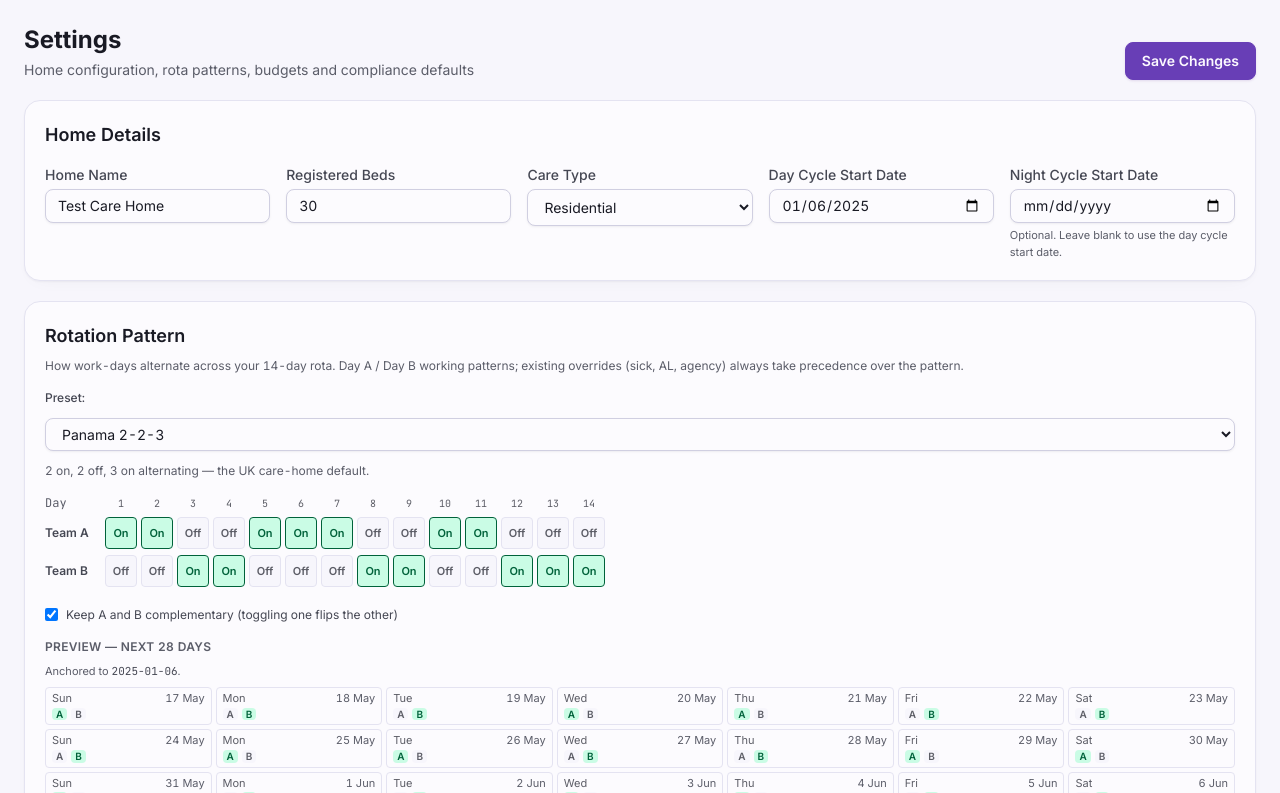
Test: Config › shows Saved! text after successful save
This screenshot has width=1280, height=793.
Check: the heading "Settings" is shown, box [24, 25, 121, 54]
Click the button "Save Changes".
click(1190, 61)  # box [1125, 42, 1256, 80]
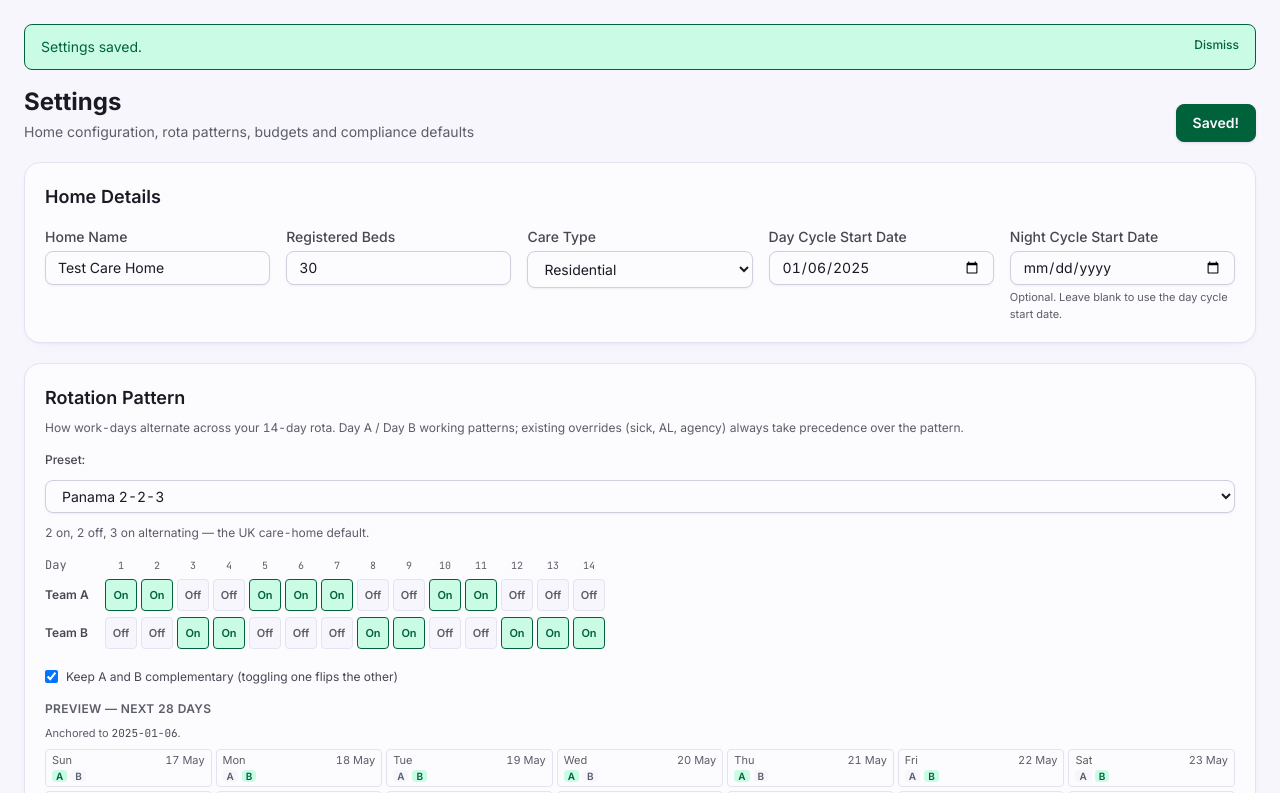
Check: the button "Saved!" is shown, box [1176, 104, 1256, 142]
